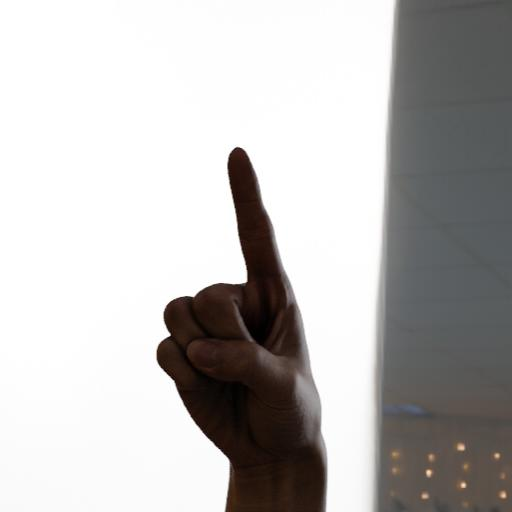Z: (147, 142, 327, 447)
